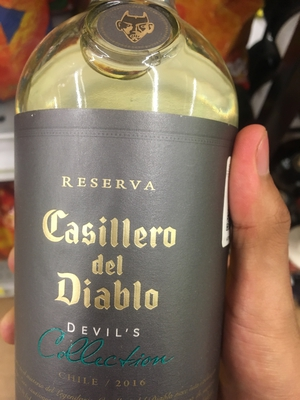casillero del diablo devils collection verde: (12, 8, 248, 400)
